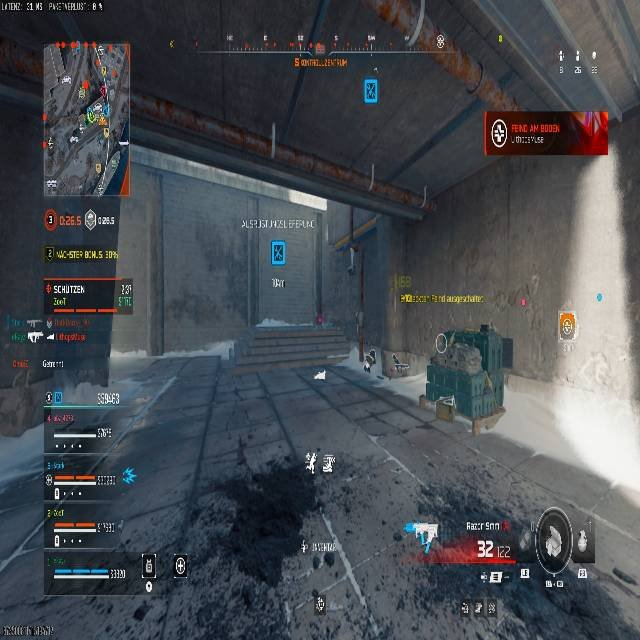player: (363, 349, 375, 372)
